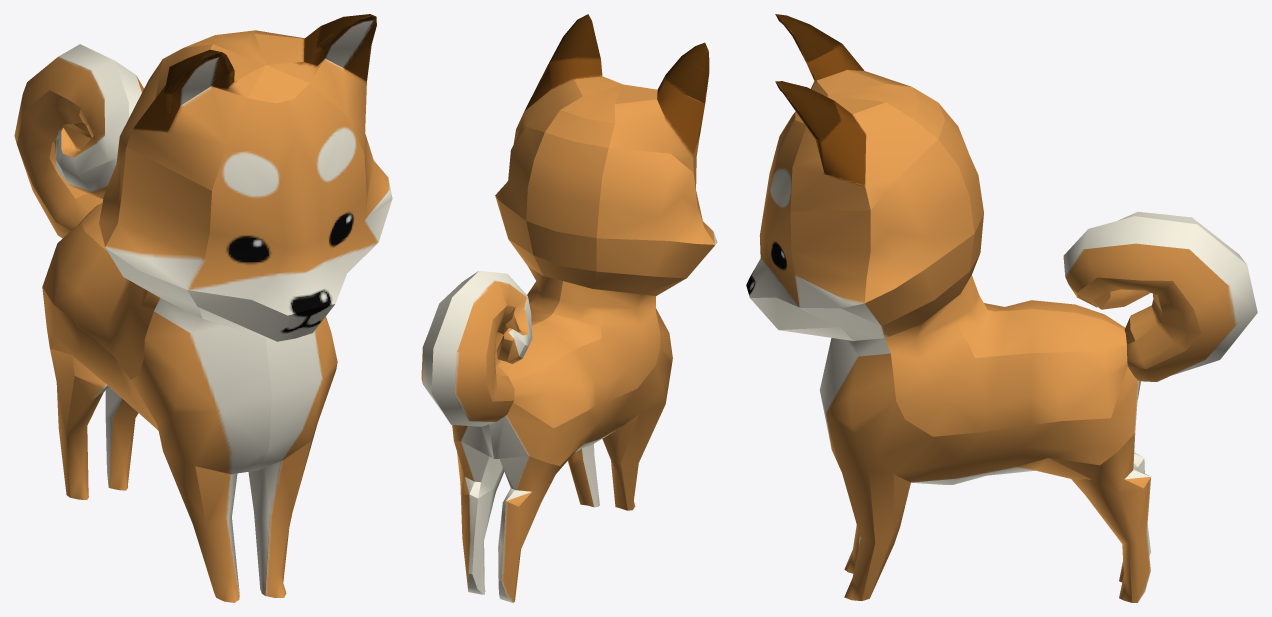
The model's file is tailWagging_frame39.obj.
3 views of the same model, side by side, from view 1: azimuth 30°, elevation 25°; view 2: azimuth 150°, elevation 25°; view 3: azimuth 270°, elevation 25° (orthographic). The views are drawn at different scales.
Parts seen in each view (by area): view 1: newRigging:BodzL1; view 2: newRigging:BodzL1; view 3: newRigging:BodzL1.
Part boxes in pixels (bbox=[...]): newRigging:BodzL1: bbox=[14, 14, 392, 602]; newRigging:BodzL1: bbox=[421, 14, 717, 602]; newRigging:BodzL1: bbox=[746, 14, 1257, 602].
Size of the model in its own units: 3.91 by 7.95 by 6.81.
Materials: 1 (1 with a texture image).
